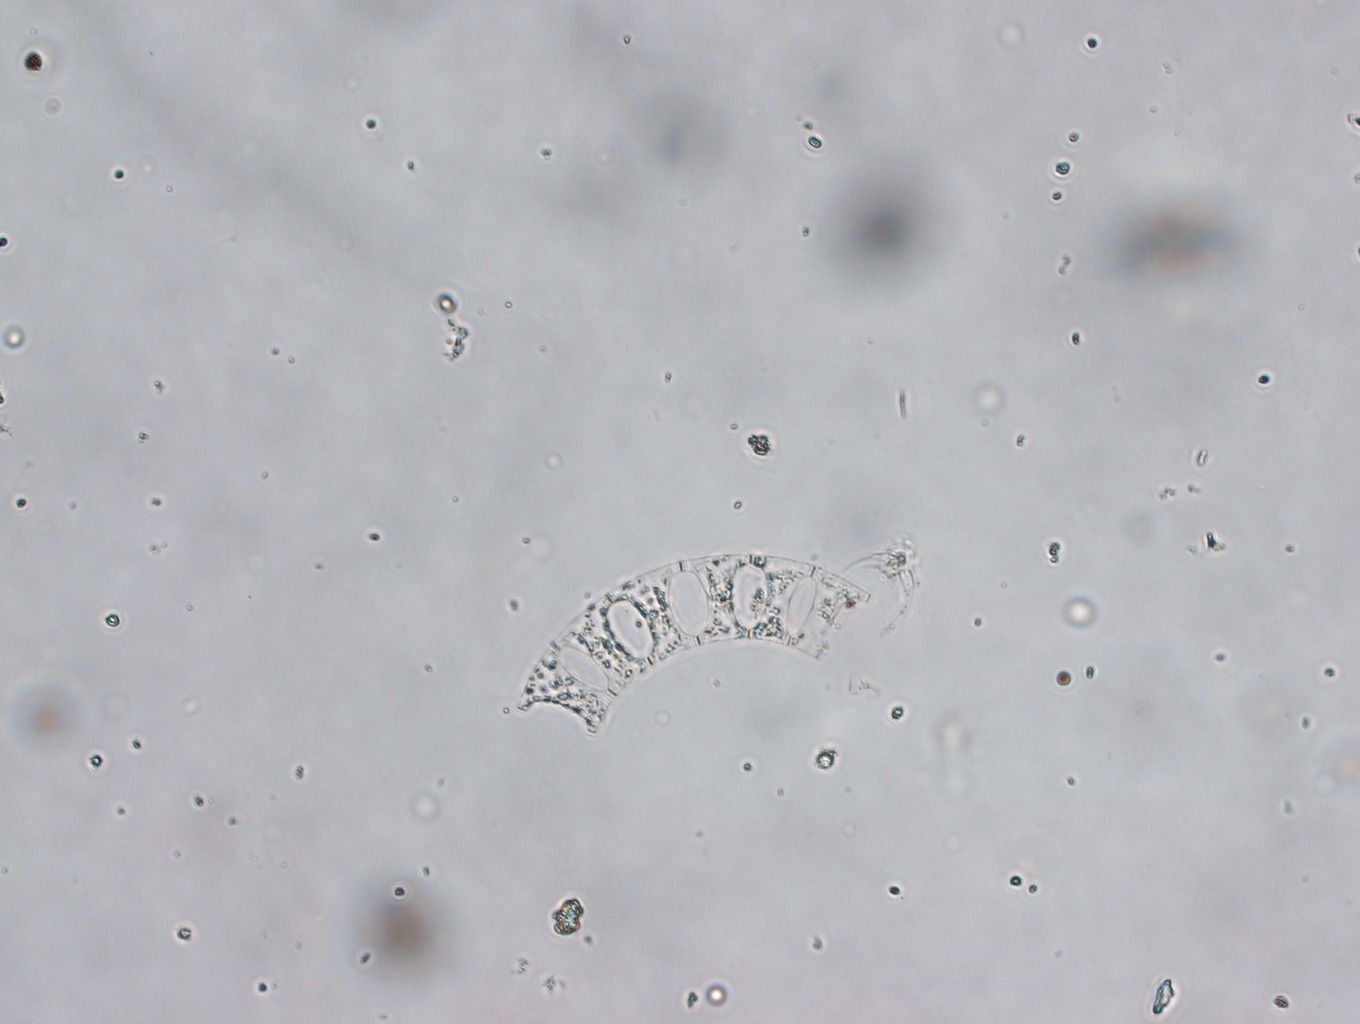eucampia: (515, 552, 873, 734)
